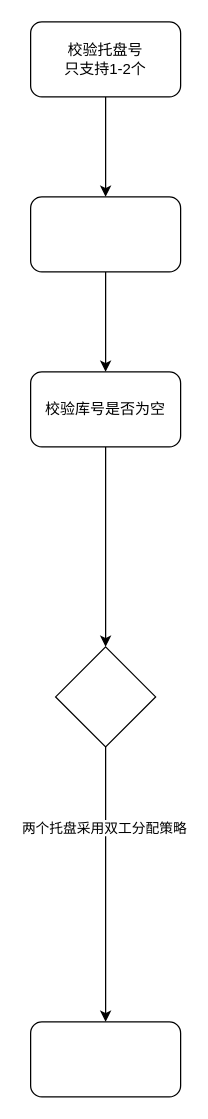
Some shapes in this 208 by 1119 pixel diagram are drawn without their labels. Here are the shapes that lost their labels. From the top down, the centre of each, then its label:
the point at 105,234: 校验托盘号
the point at 105,1059: 获取在列层面（排和层相同）两个相邻的库位
